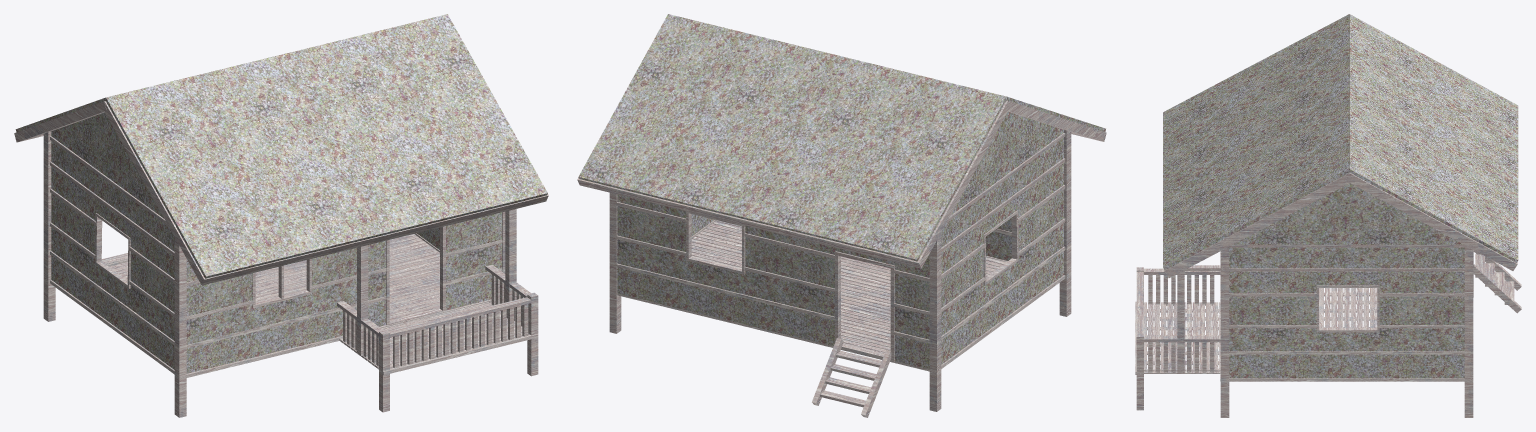
The picture shows the model from 3 angles, left to right: view 1: azimuth 30°, elevation 25°; view 2: azimuth 150°, elevation 25°; view 3: azimuth 270°, elevation 25°; orthographic projection. The views are drawn at different scales.
Visible parts, largest first — view 1: Wall1, Frame1; view 2: Wall1, Frame1; view 3: Wall1, Frame1.
Part boxes in pixels (box(x1,y1,x2,y2)): Wall1: box(15, 14, 547, 373); Frame1: box(14, 101, 548, 417); Wall1: box(578, 14, 1105, 369); Frame1: box(577, 100, 1106, 417); Wall1: box(1163, 14, 1518, 378); Frame1: box(1135, 173, 1521, 417).
Bounding box in the file's own units: 28.78 × 21.59 × 30.01.
2 materials, 2 textured.
